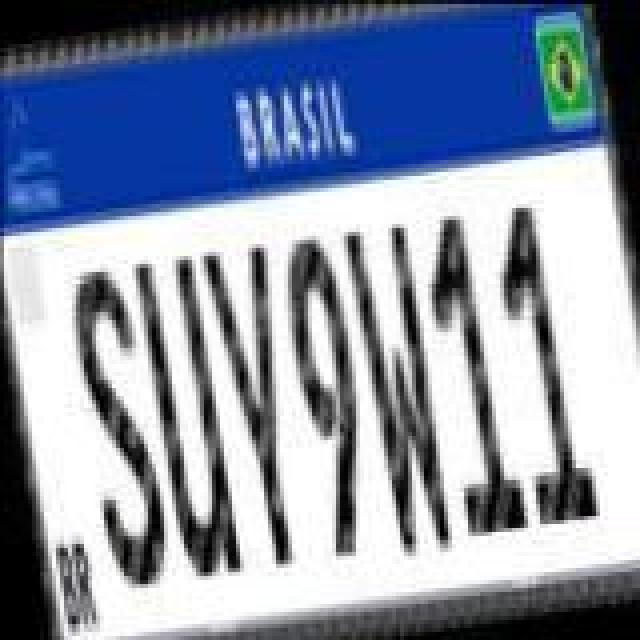1: (416, 200, 532, 540), (484, 196, 600, 532)
9: (274, 226, 386, 562)
S: (60, 260, 176, 596)
U: (130, 250, 242, 586)
W: (338, 214, 458, 558)
Y: (198, 240, 318, 572)
